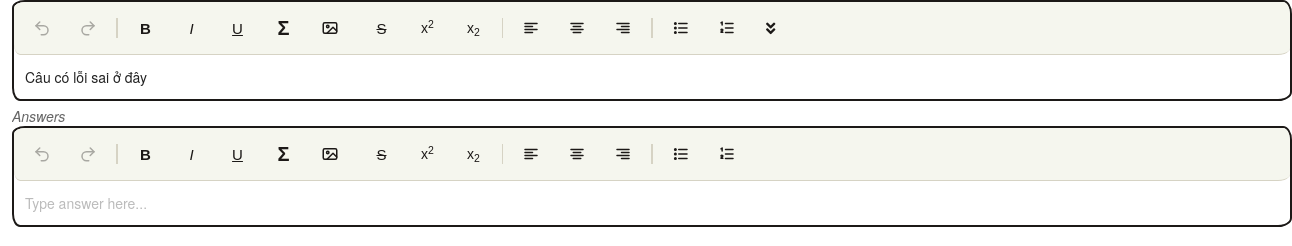
Scenario: editorType: insert check box or underline (the easiest difference to lose) › ErrorIdentify inserts <span class=check-item>, not an underline
Press a in the field labelled "Câu có lỗi sai ở đây", box [25, 67, 147, 87]
Click the button titled "Chuyển vùng chọn thành đáp án" at x=772, y=28, box [750, 6, 794, 50]
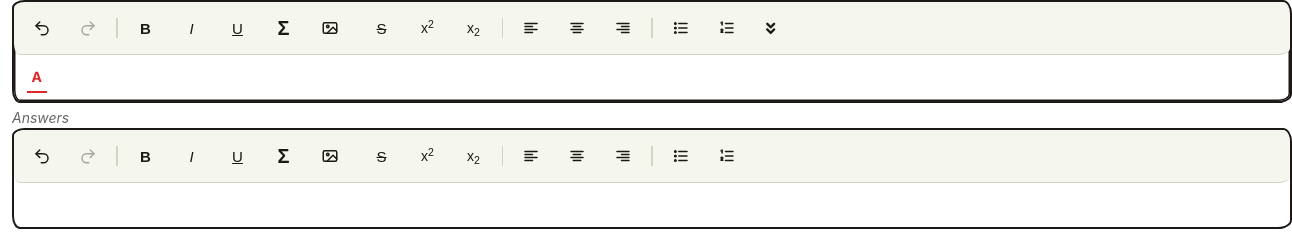
Now the element with class "check-item" is shown, box [27, 63, 47, 93]
